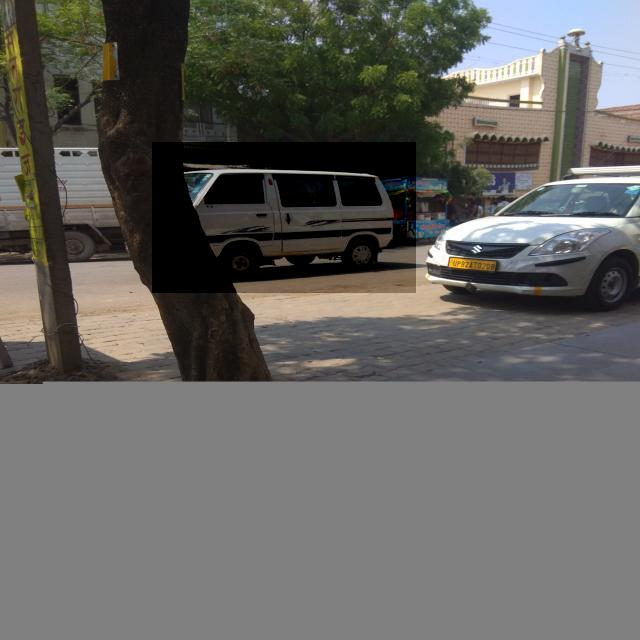Travller: (152, 142, 416, 293)
